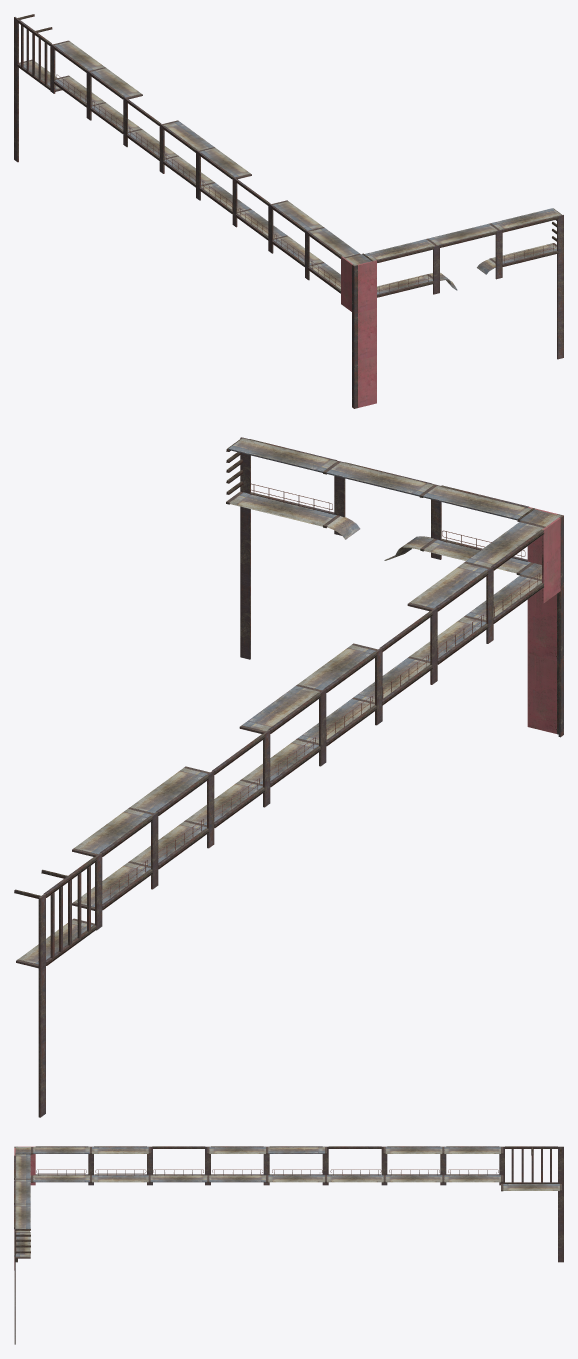
File: Metal_Block.FBX
3 views of the same model, one above another, from view 1: azimuth 30°, elevation 25°; view 2: azimuth 150°, elevation 25°; view 3: azimuth 270°, elevation 25° (orthographic). The views are drawn at different scales.
Parts seen in each view (by area): view 1: A3_MetalBlock; view 2: A3_MetalBlock; view 3: A3_MetalBlock.
Part boxes in pixels (x1,y1,x2,y2): A3_MetalBlock: (14, 14, 563, 408); A3_MetalBlock: (14, 437, 563, 1117); A3_MetalBlock: (14, 1146, 563, 1344).
Bounding box in the file's own units: 2643 × 1721 × 7416.
